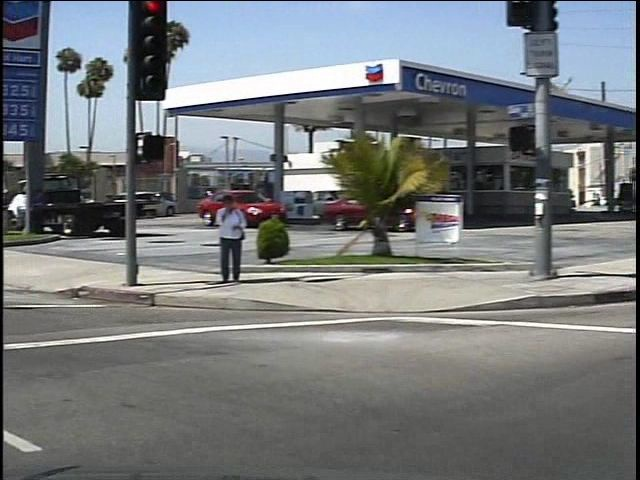person: (205, 191, 241, 288)
